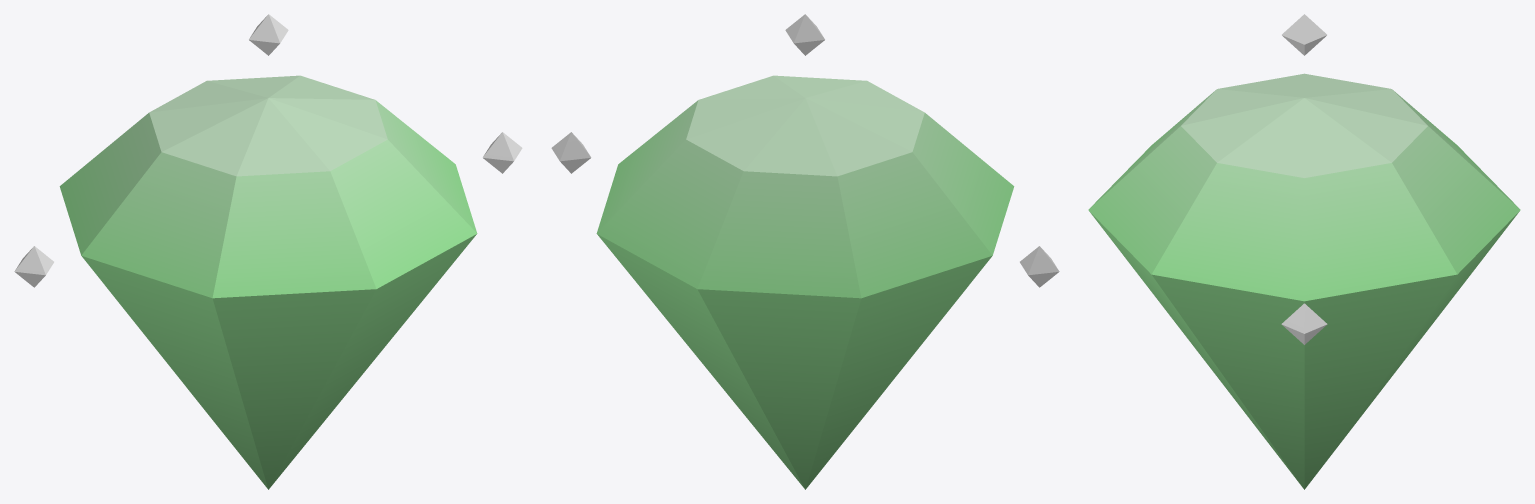
Rendered from gem.glb.
The picture shows the model from 3 angles, left to right: view 1: azimuth 30°, elevation 25°; view 2: azimuth 150°, elevation 25°; view 3: azimuth 270°, elevation 25°; orthographic projection.
Parts seen in each view (by area): view 1: gem; view 2: gem; view 3: gem.
Boxes of the visible parts, x1=… form: gem: x1=14, y1=14, x2=522, y2=489; gem: x1=551, y1=14, x2=1059, y2=489; gem: x1=1088, y1=14, x2=1520, y2=489.
Bounding box in the file's own units: 0.76 × 0.68 × 0.56.
